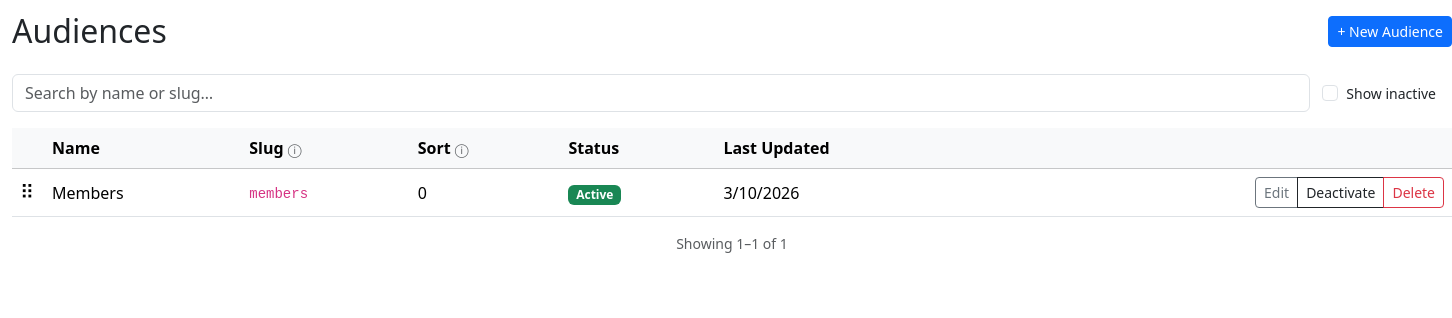
Test case: AudiencesListPage › Search › filters rows by name
The image size is (1452, 318).
Check: the text "Members" is shown, box [44,169,241,217]
Click the checkbox labelled "Show inactive".
click(1330, 93)  # box [1322,85,1338,101]
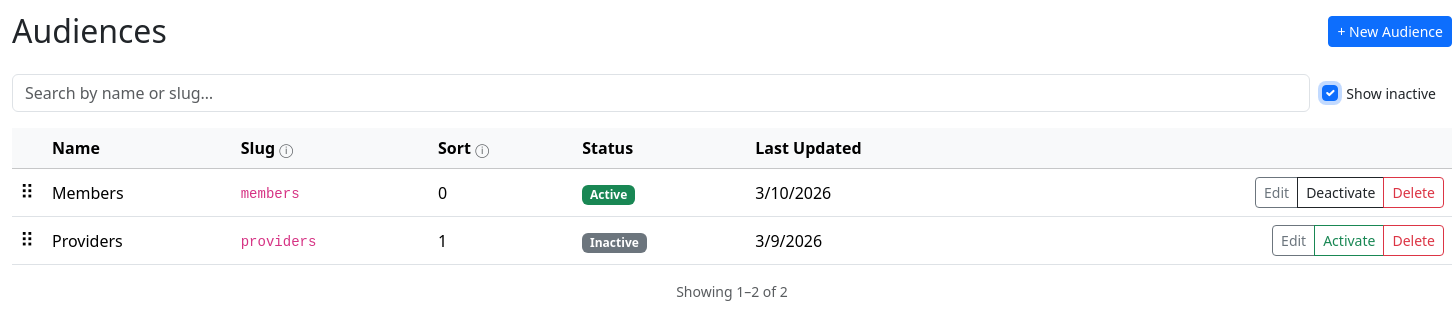
Type "prov" into the search field.
click(661, 93); type("prov")  # box [12,74,1310,112]
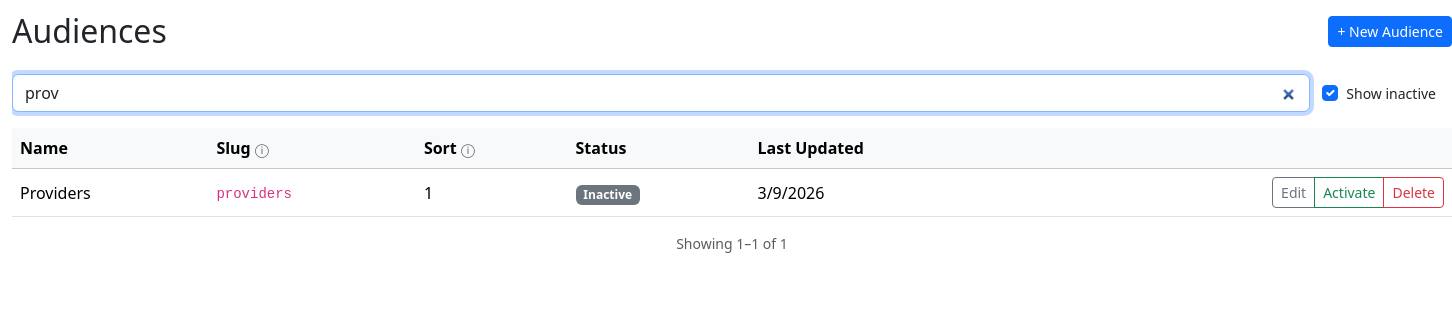
Check: the text "Providers" is shown, box [12,169,208,217]
Check: the text "Members" is gone
